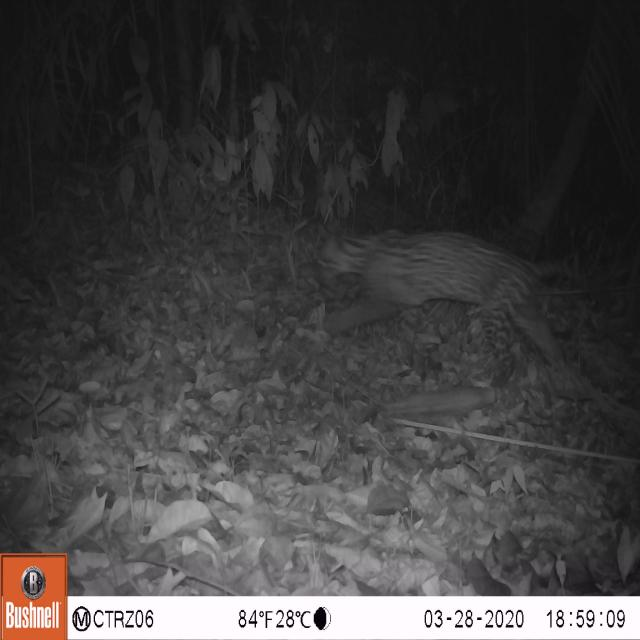Ocelote: (310, 212, 578, 382)
